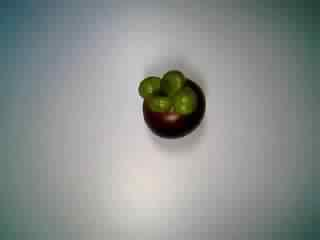mangosteen: (128, 66, 206, 141)
